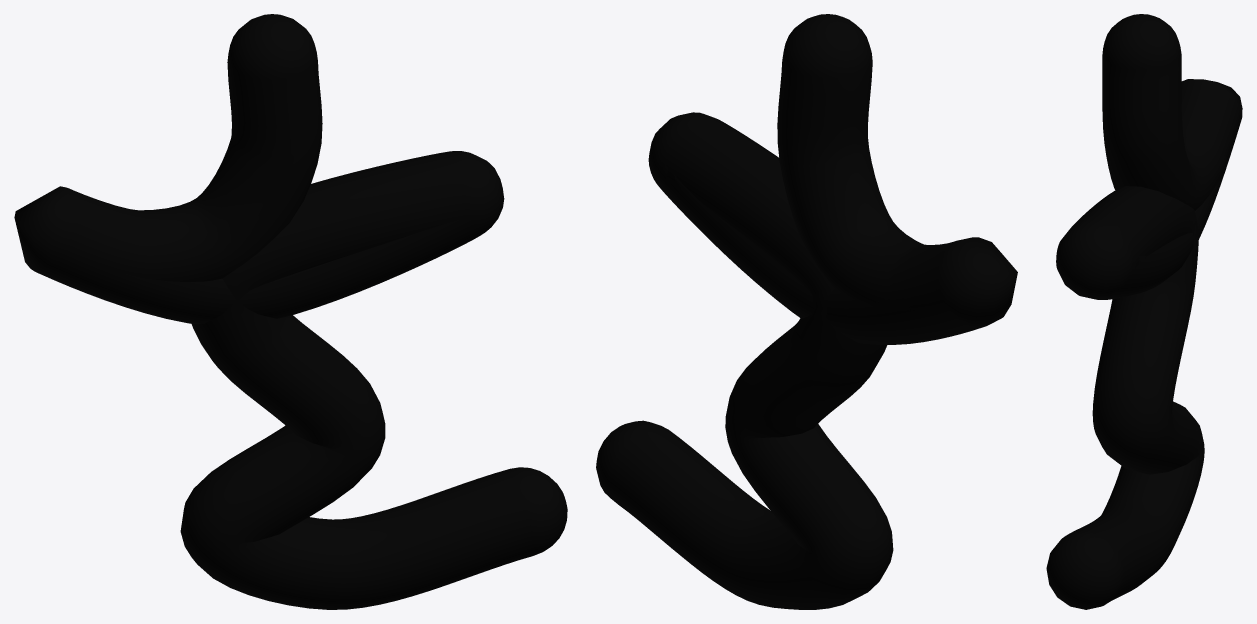
Rendered from GlyphA.glb.
The picture shows the model from 3 angles, left to right: view 1: azimuth 30°, elevation 25°; view 2: azimuth 150°, elevation 25°; view 3: azimuth 270°, elevation 25°; orthographic projection. The views are drawn at different scales.
Parts seen in each view (by area): view 1: mesh_id29; view 2: mesh_id29; view 3: mesh_id29.
Part boxes in pixels (<box>): mesh_id29: <box>14,14,567,609</box>; mesh_id29: <box>596,14,1017,609</box>; mesh_id29: <box>1046,14,1242,609</box>.
Size of the model in its own units: 0.3617 by 0.4367 by 0.1475.
1 material, 1 textured.
